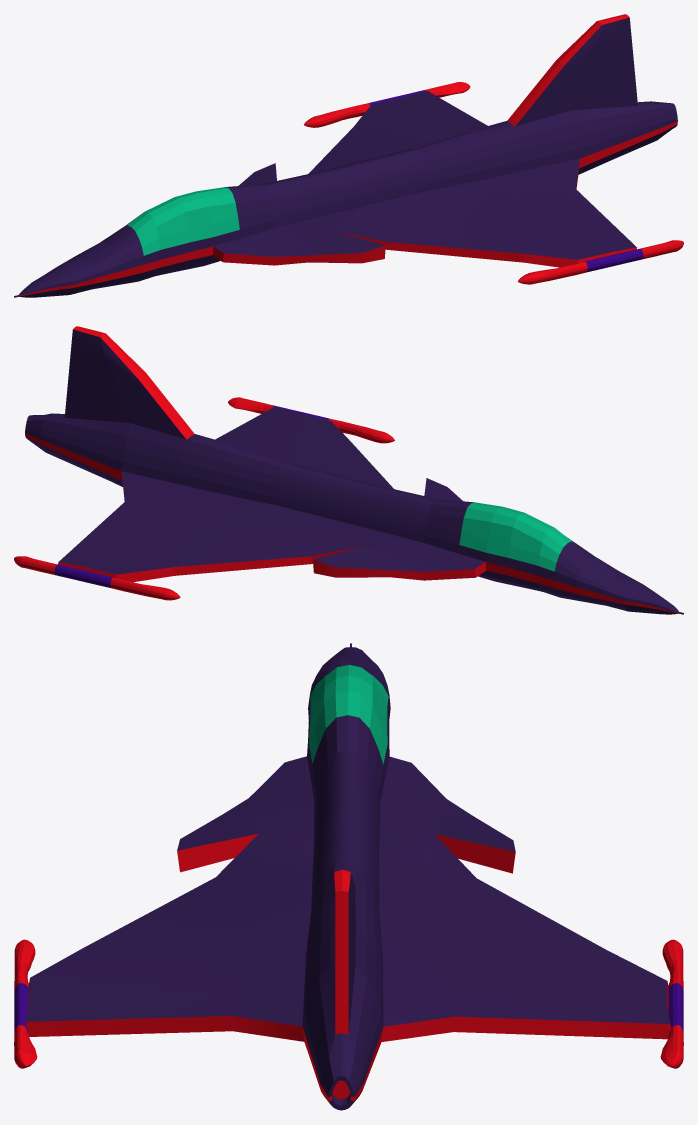
File: Jet Blend.glb
The picture shows the model from 3 angles, top to bottom: view 1: azimuth 30°, elevation 25°; view 2: azimuth 150°, elevation 25°; view 3: azimuth 270°, elevation 25°; orthographic projection. The views are drawn at different scales.
Parts seen in each view (by area): view 1: pCylinder5; view 2: pCylinder5; view 3: pCylinder5.
Boxes of the visible parts, <box> form: pCylinder5: <box>14,14,683,297</box>; pCylinder5: <box>14,326,683,614</box>; pCylinder5: <box>14,643,683,1110</box>.
Bounding box in the file's own units: 9.84 × 2.12 × 5.75.
